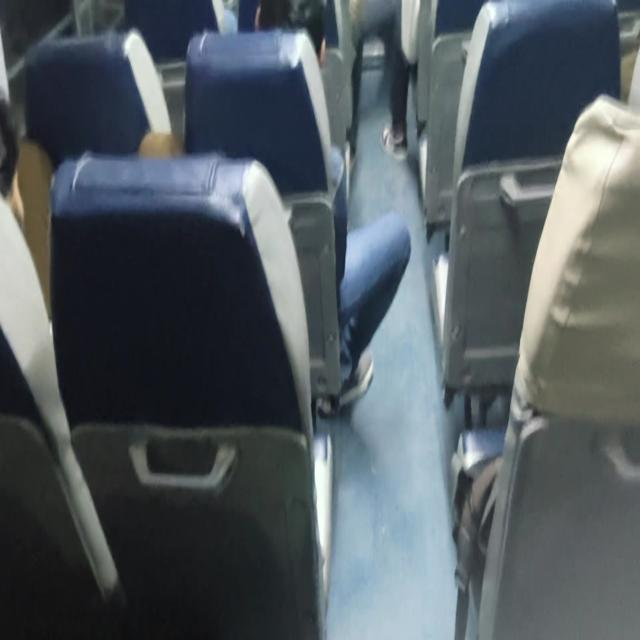person: (239, 0, 336, 77)
